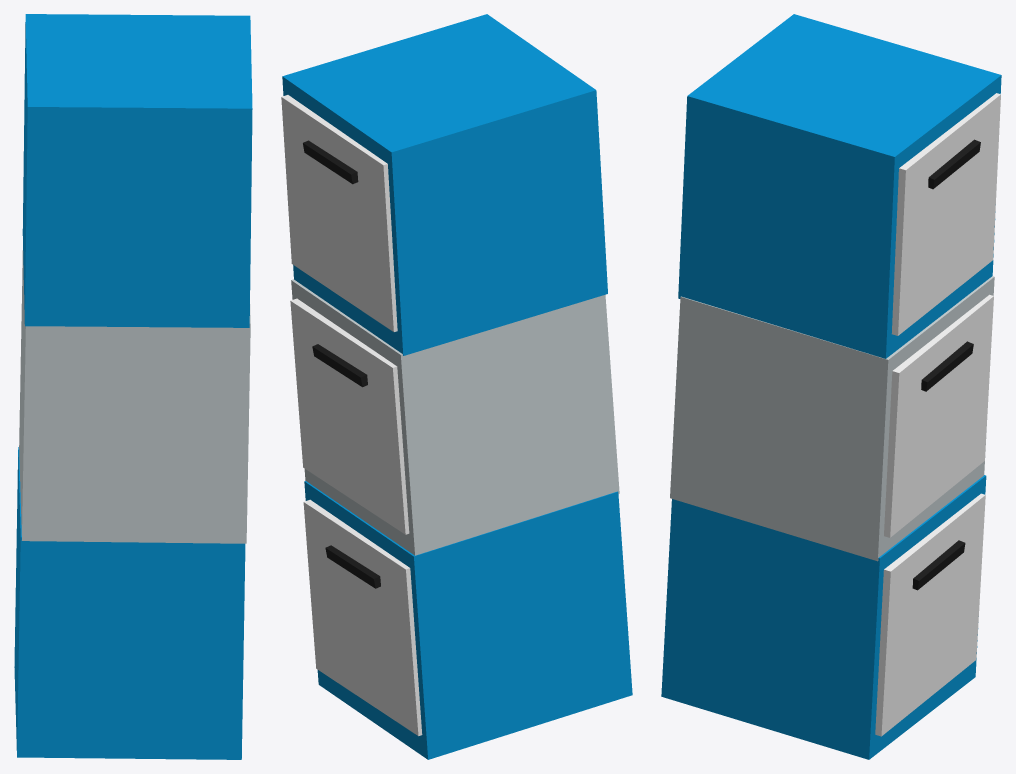
File: lisa-s-pedestals-drawers-2-col-by-lisa-tixier-c8RZOw_aDG0.glb
3 renders of one model, left to right at view 1: azimuth 30°, elevation 25°; view 2: azimuth 150°, elevation 25°; view 3: azimuth 270°, elevation 25°, orthographic. The views are drawn at different scales.
Parts seen in each view (by area): view 1: group12901892; view 2: group12901892; view 3: group12901892.
Part boxes in pixels (x1,y1,x2,y2): group12901892: (14, 14, 252, 759); group12901892: (281, 14, 632, 759); group12901892: (661, 14, 1001, 759).
Bounding box in the file's own units: 0.3382 × 0.7044 × 0.3457.
